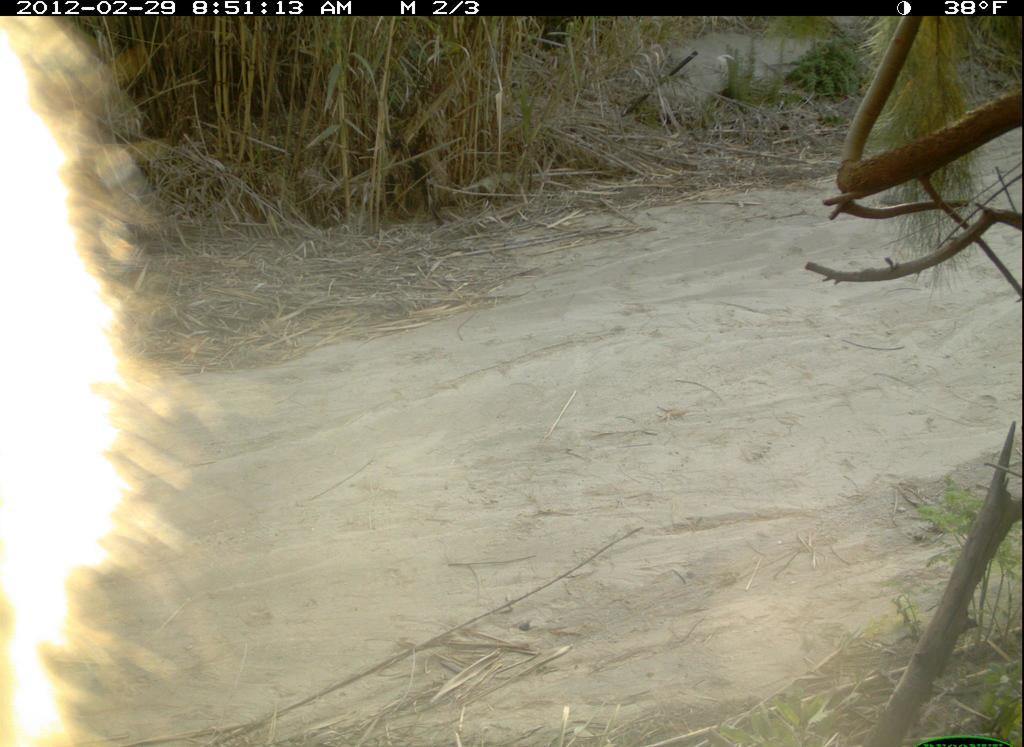coyote: (1, 20, 186, 747)
